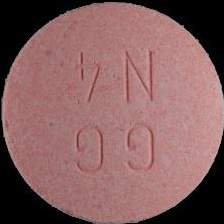0781-1643: (0, 0, 224, 224)
